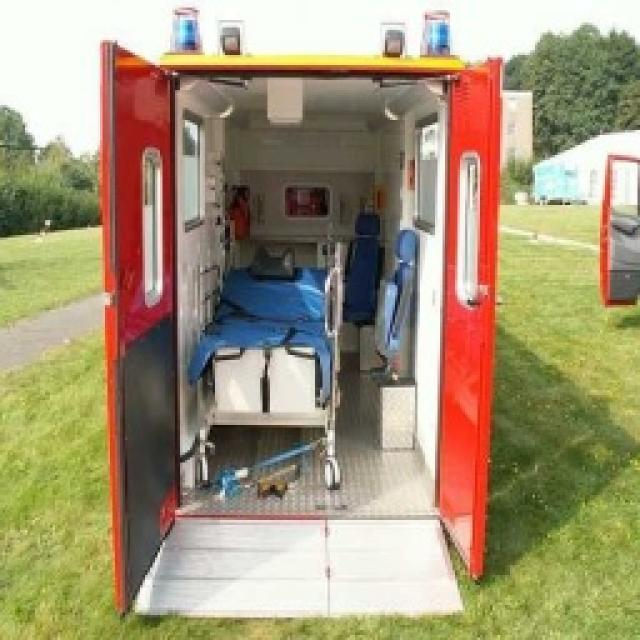emergency-vehicle: (53, 6, 624, 640)
